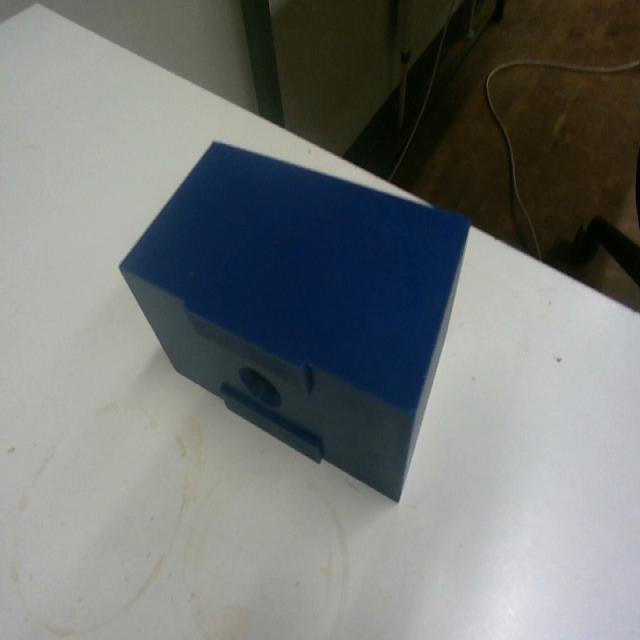Blue Cuboid: (117, 136, 473, 504)
